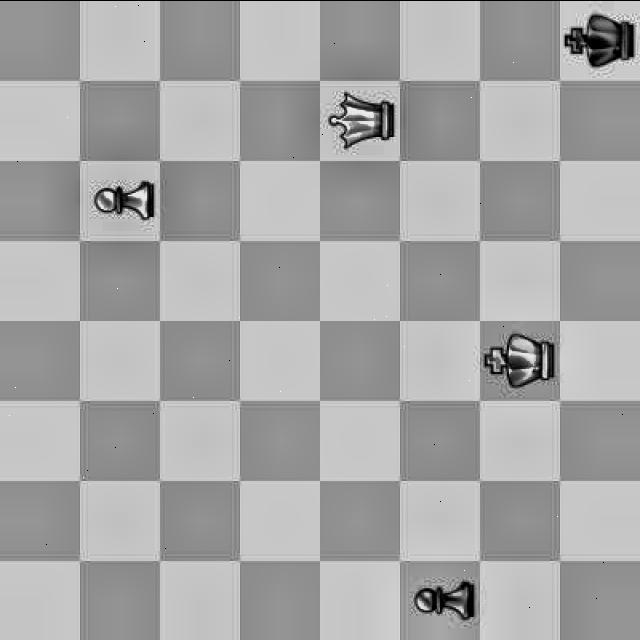black king: (563, 2, 639, 78)
black pawn: (402, 561, 474, 640)
white king: (473, 320, 573, 400)
white pawn: (80, 166, 158, 242)
white queen: (322, 78, 400, 160)
